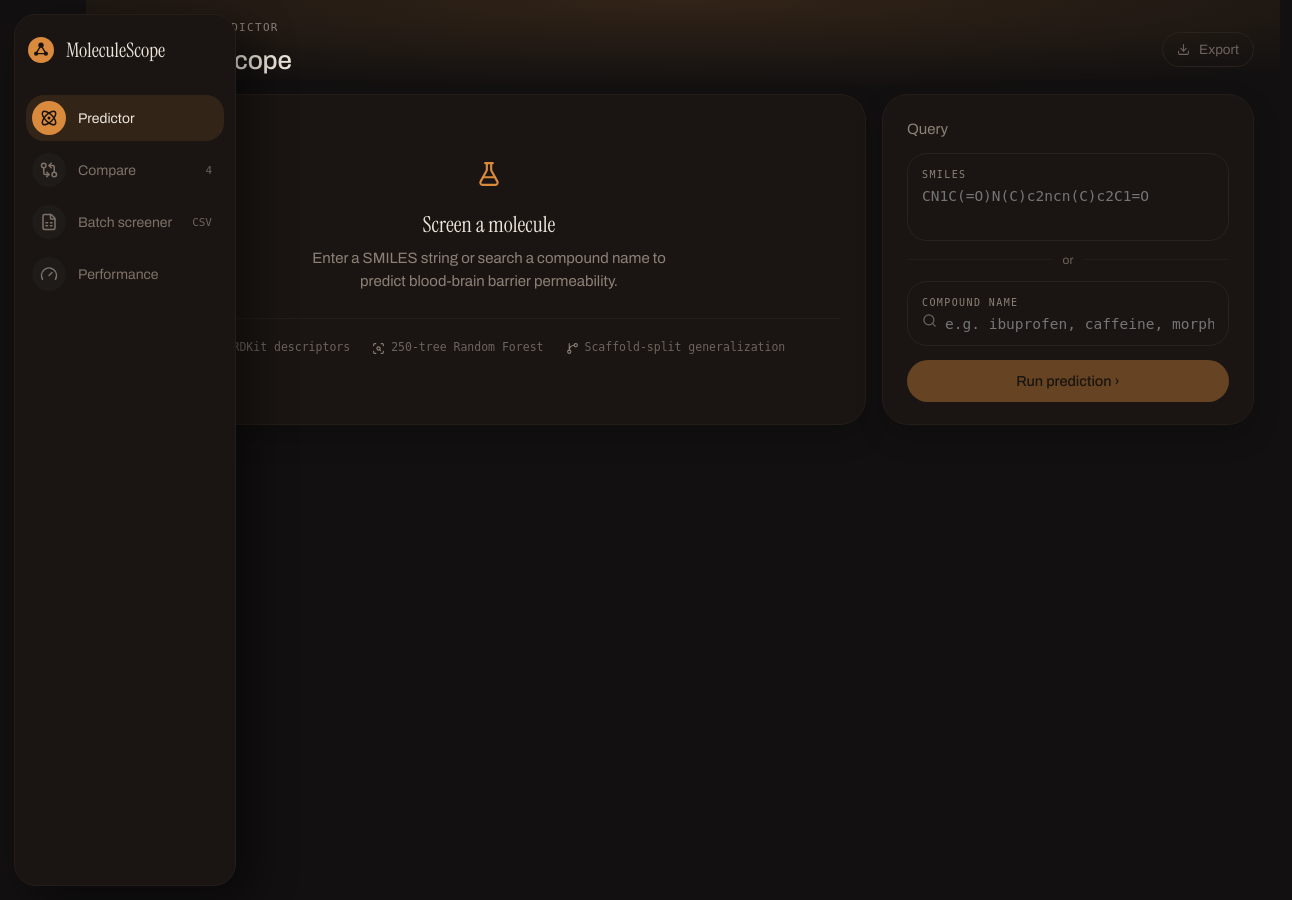
Test: MoleculeScope Frontend Unit Tests › 16d. Compound name search shows a 'Differs from others' badge for structurally inconsistent duplicate names
Type "morphine" into the dropdown with placeholder "e.g. ibuprofen, caffeine, morphine..." at (1080, 320), box [945,310,1214,332]
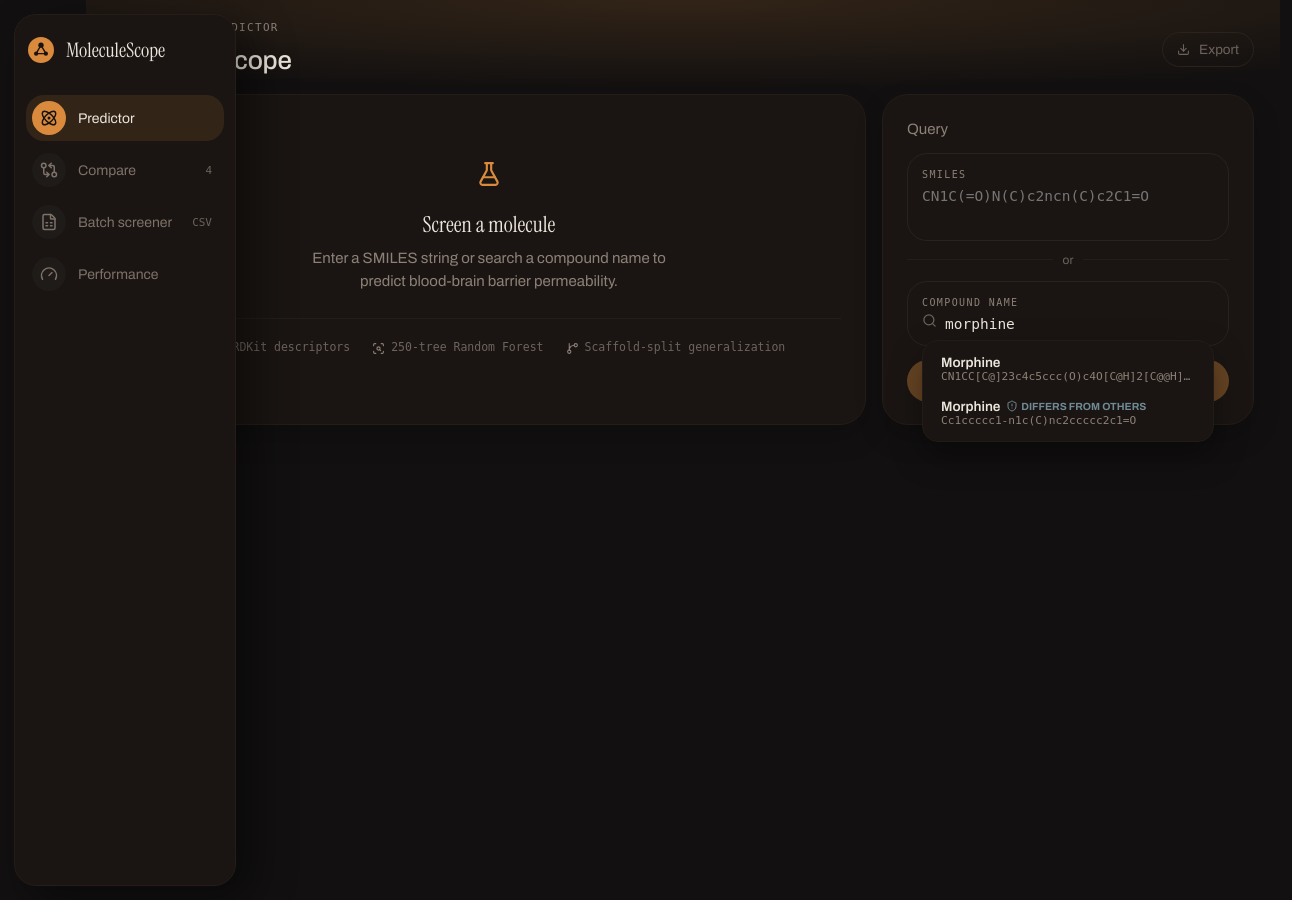
Result: the text "morphine" is shown 2 times at [941,354,1000,370]; [941,398,1000,414]
Result: the text "Differs from others" is shown once at [1006,400,1146,412]
